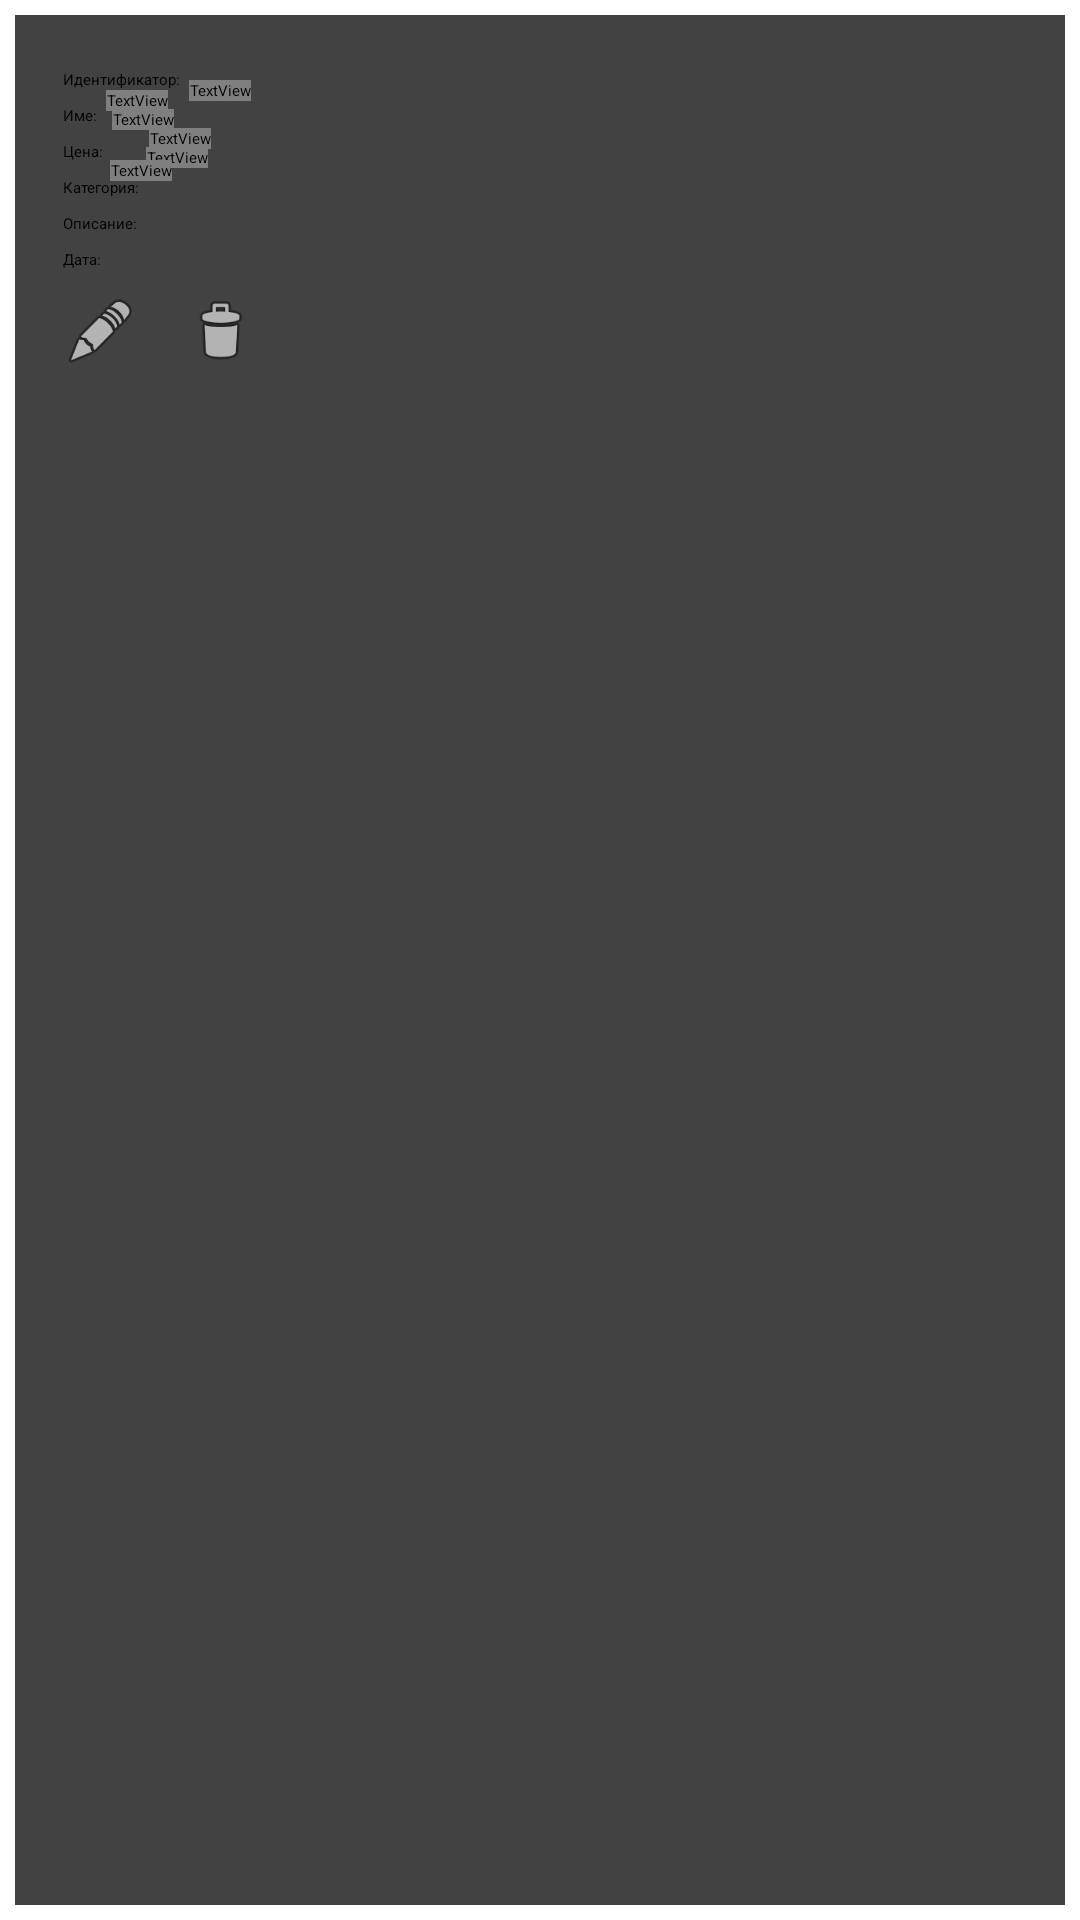

Screen size 1080px×1920px. Icon name, then its center in pixels as (x=x, y=y):
delete: (x=220, y=330)
edit: (x=100, y=331)
